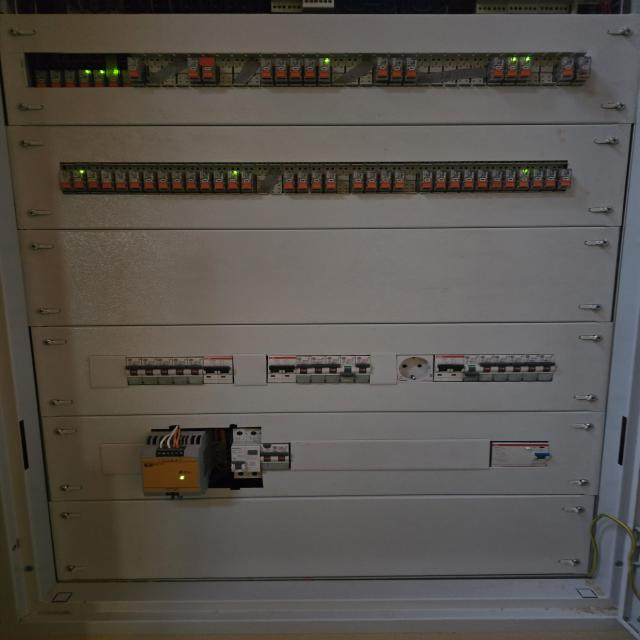FI: (491, 441, 550, 468)
FI_Sicherungskombi: (232, 429, 262, 479)
Leitungsschutzschalter: (203, 356, 233, 384), (268, 356, 296, 383), (435, 355, 463, 381), (261, 444, 289, 469), (506, 354, 525, 382), (463, 354, 481, 381), (537, 354, 554, 382), (478, 355, 495, 382), (522, 354, 539, 381), (493, 355, 510, 381), (172, 357, 188, 384), (142, 358, 158, 384), (127, 358, 142, 385), (311, 355, 326, 382), (157, 358, 173, 383), (356, 355, 370, 383), (188, 357, 202, 384), (296, 355, 310, 382), (341, 356, 355, 383), (327, 356, 341, 382)
Relais: (126, 56, 146, 84), (557, 56, 575, 83), (317, 58, 332, 86), (201, 58, 217, 84), (274, 58, 289, 84), (576, 56, 591, 82), (240, 170, 256, 193), (405, 57, 419, 83), (488, 58, 503, 82), (188, 58, 202, 83), (289, 58, 303, 83), (260, 58, 273, 84), (390, 57, 403, 83), (304, 58, 317, 83), (376, 57, 389, 82), (184, 170, 198, 193), (558, 168, 572, 191), (100, 170, 114, 192), (418, 170, 432, 192), (227, 170, 240, 193), (86, 170, 100, 191), (128, 170, 142, 191), (212, 170, 226, 191), (506, 58, 518, 82), (520, 57, 532, 81), (157, 170, 170, 192), (171, 170, 184, 192), (324, 171, 337, 193), (448, 170, 461, 192), (476, 170, 489, 192), (489, 170, 502, 192), (114, 170, 128, 190), (142, 170, 156, 190), (434, 170, 446, 193), (463, 170, 475, 193), (199, 170, 211, 192), (283, 171, 295, 193), (297, 171, 309, 193), (310, 171, 322, 193), (352, 170, 364, 192), (379, 170, 391, 192), (504, 170, 516, 192), (519, 169, 530, 193), (79, 69, 92, 89), (72, 170, 85, 190), (532, 169, 543, 192), (545, 169, 556, 192), (394, 171, 406, 192), (64, 69, 77, 88), (366, 170, 377, 192), (59, 170, 71, 190), (35, 69, 47, 88), (107, 69, 119, 88), (51, 70, 62, 88), (94, 70, 105, 88), (122, 70, 130, 87)
Schaltkasten: (0, 1, 632, 606)
